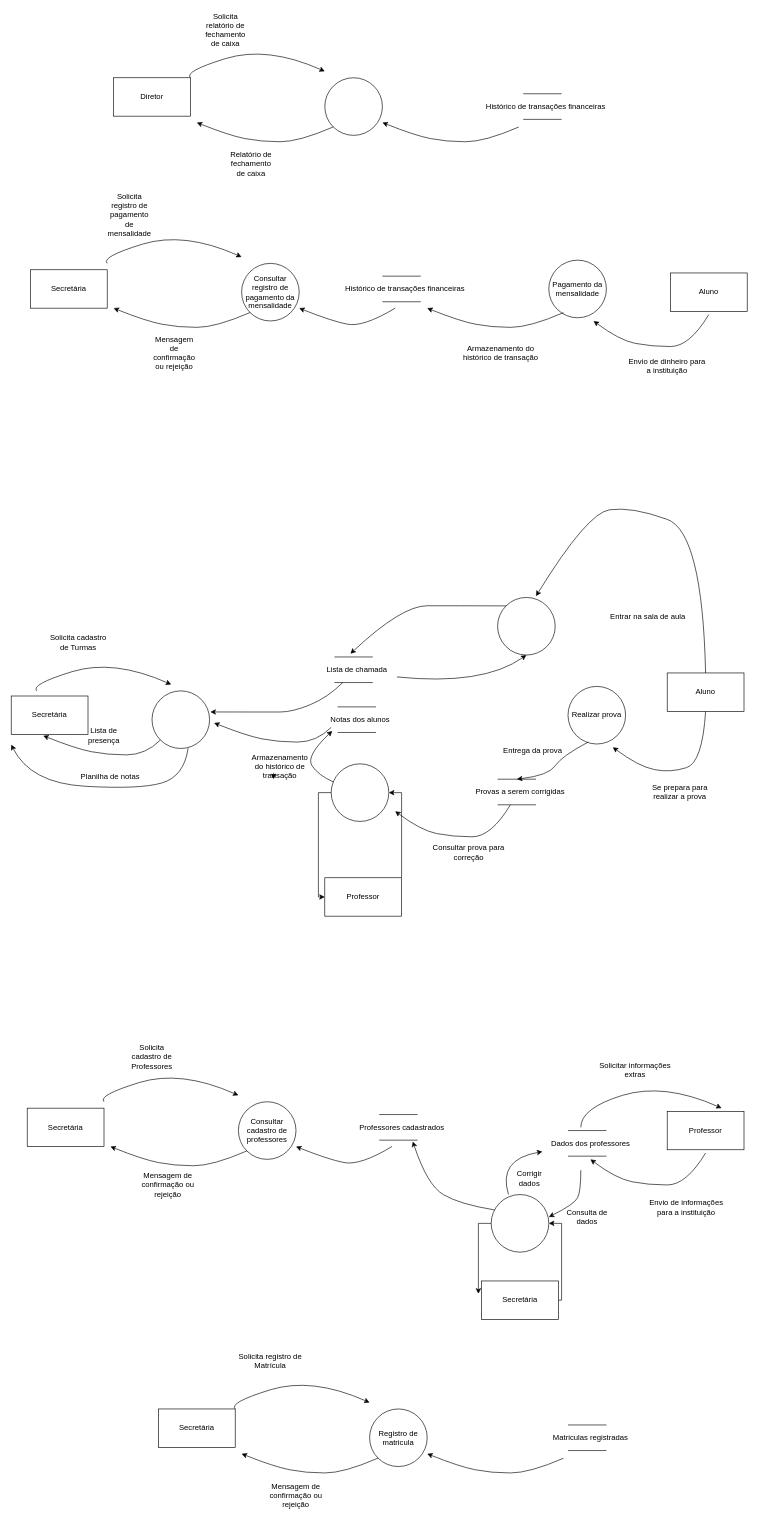
Image size: 758x1520. Some labels were removed from this diagram. Here are the shapes that lost their labels. From the top down, the centre of each, then its label:
point (353, 106): Gerar relatório de fechamento de caixa
point (526, 626): Confirmar presença em sala de aula
point (180, 719): Consultar Cadastro de turmas
point (360, 792): Correção de provas
point (520, 1223): Cadastro de professor
